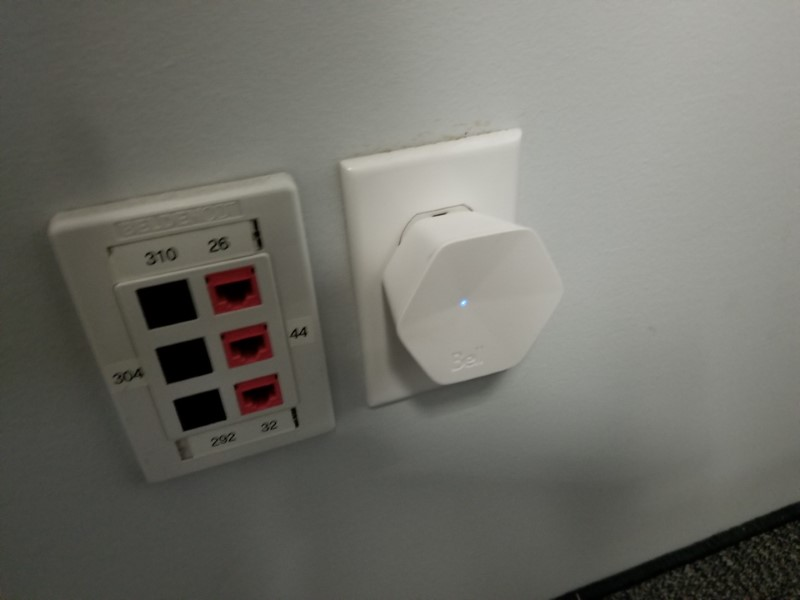pod: (376, 209, 570, 390)
